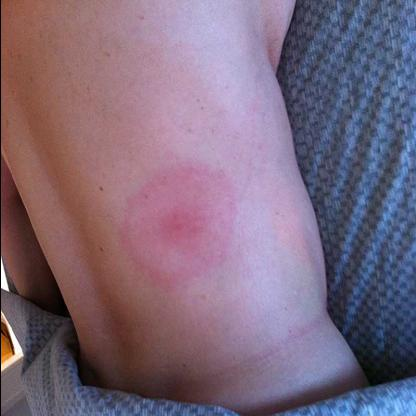Tick: (115, 158, 241, 298)
